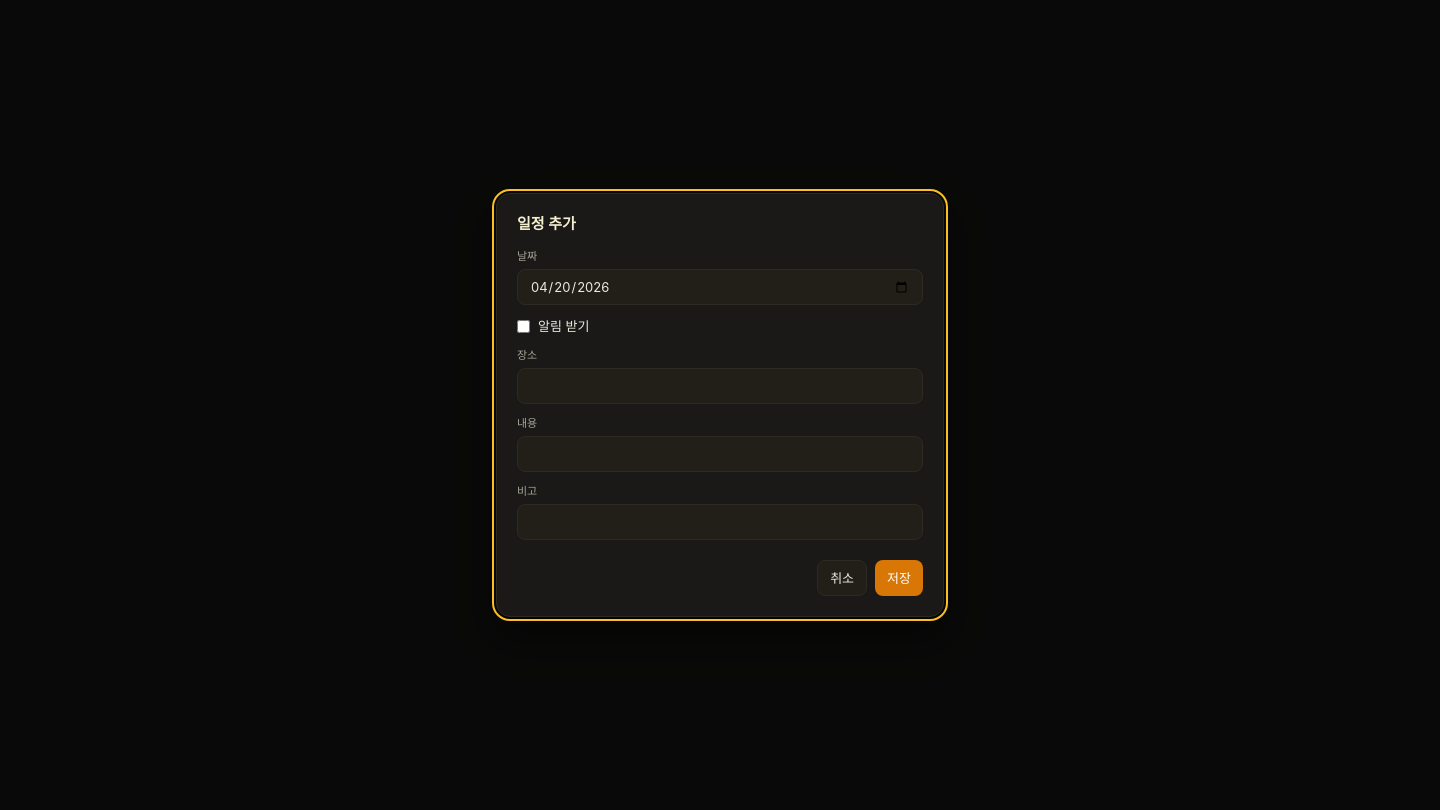
ScheduleModal notify toggle › reveals time picker + checkboxes when notify is turned on
The image size is (1440, 810).
Click the checkbox labelled "알림 받기" at (524, 327), box [517,320,530,333]
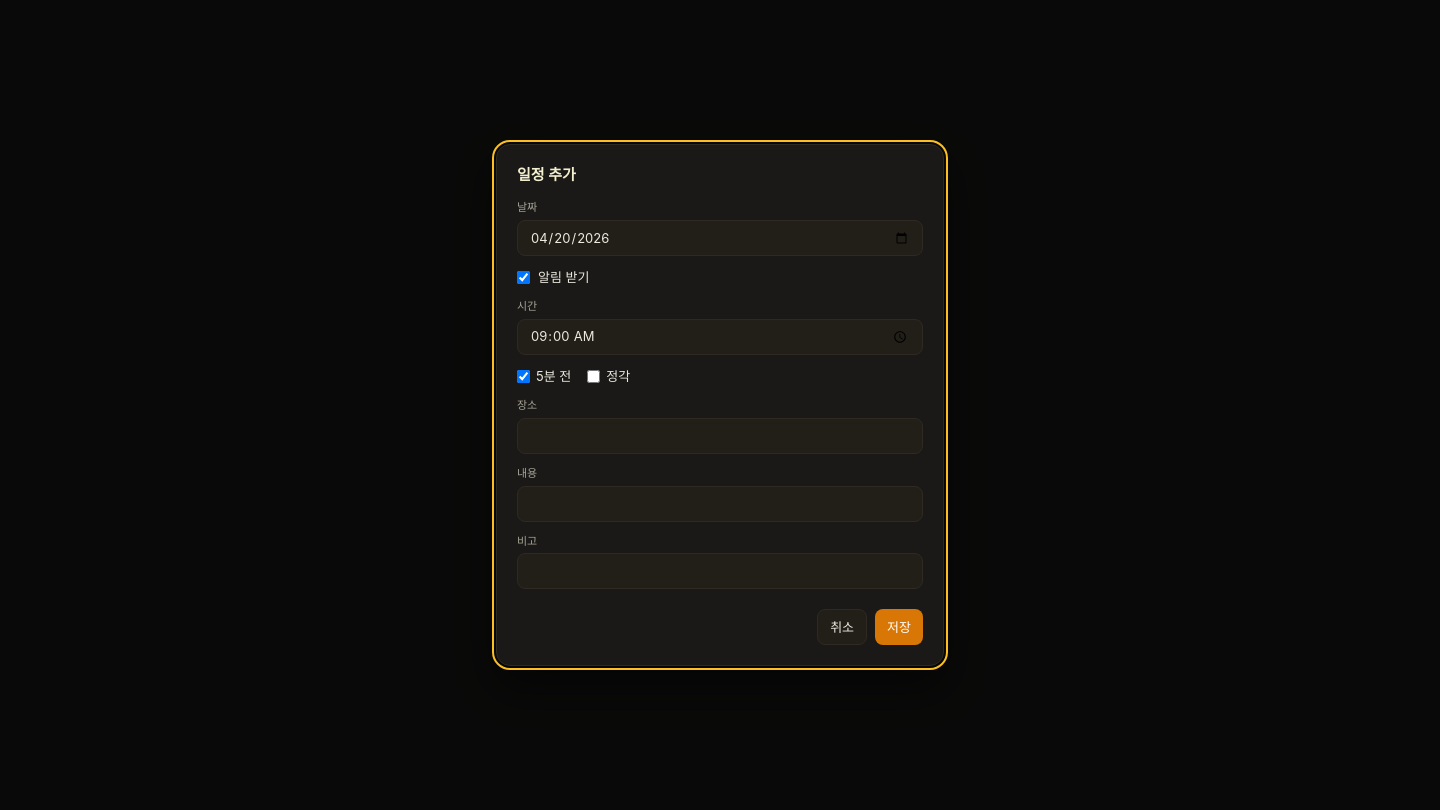
Check: the time field labelled "시간" is shown, box [517,319,923,355]
Check: the checkbox labelled "5분 전" is checked, box [517,370,530,383]
Check: the checkbox labelled "정각" is not checked, box [587,370,600,383]
